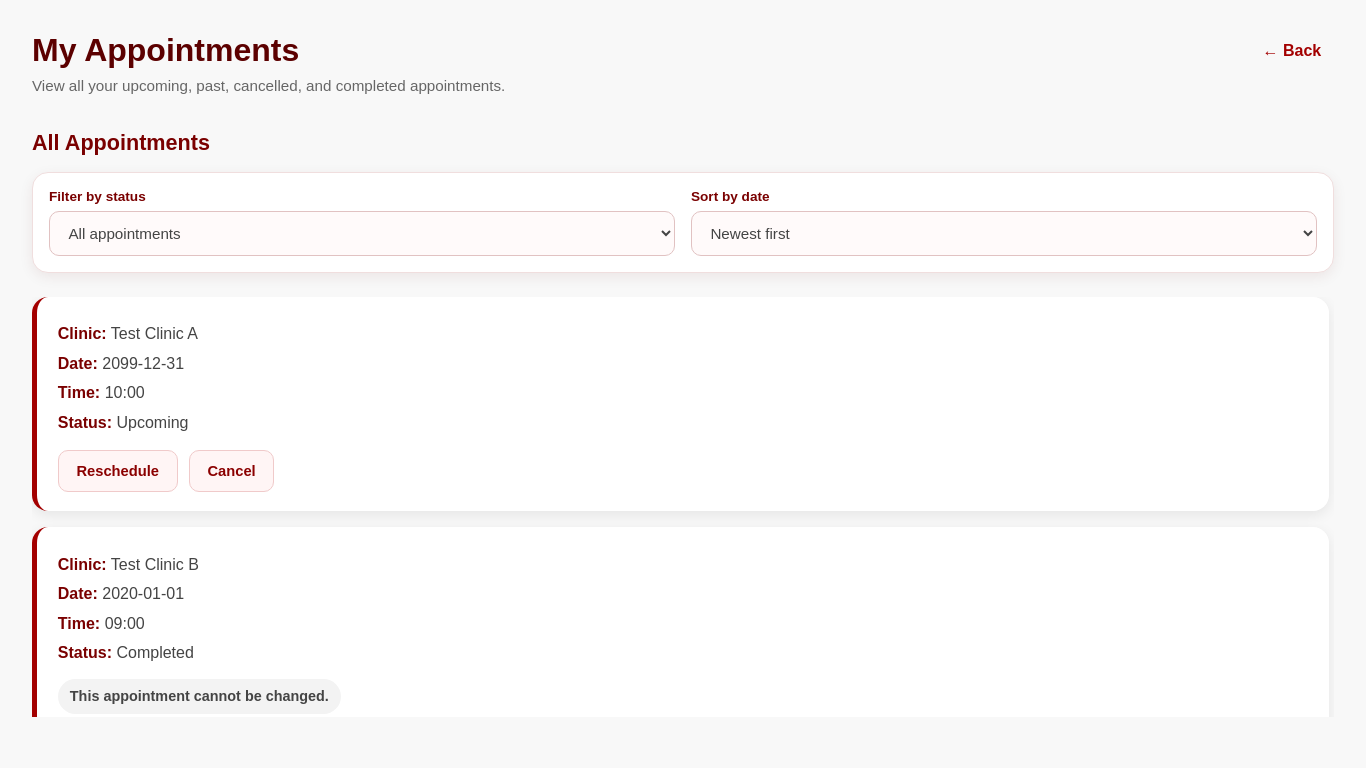
Test: AppointmentsPage › success popup closes when overlay is clicked
The width and height of the screenshot is (1366, 768).
Click the button "Cancel" at point(232, 471), box [189, 450, 274, 492]
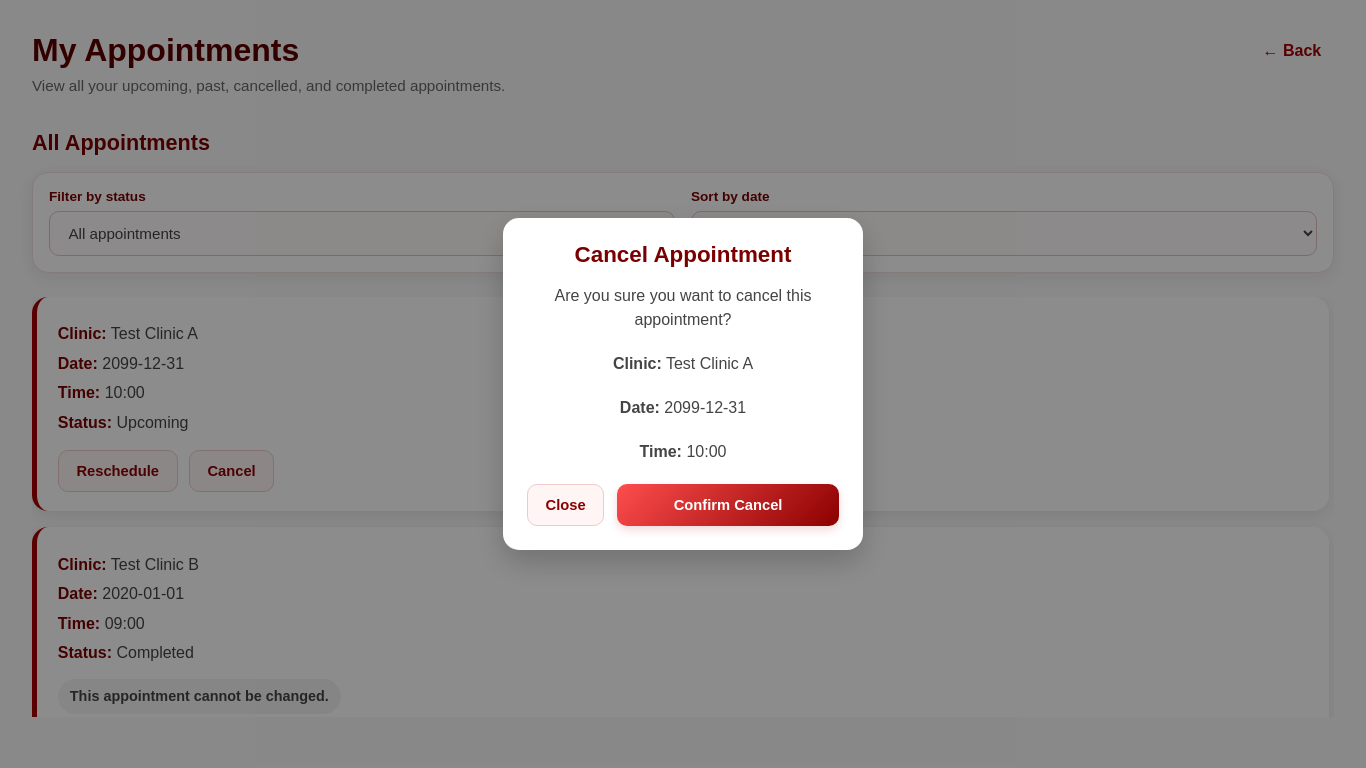
Click the button "Confirm Cancel" at point(728, 505), box [617, 484, 839, 526]
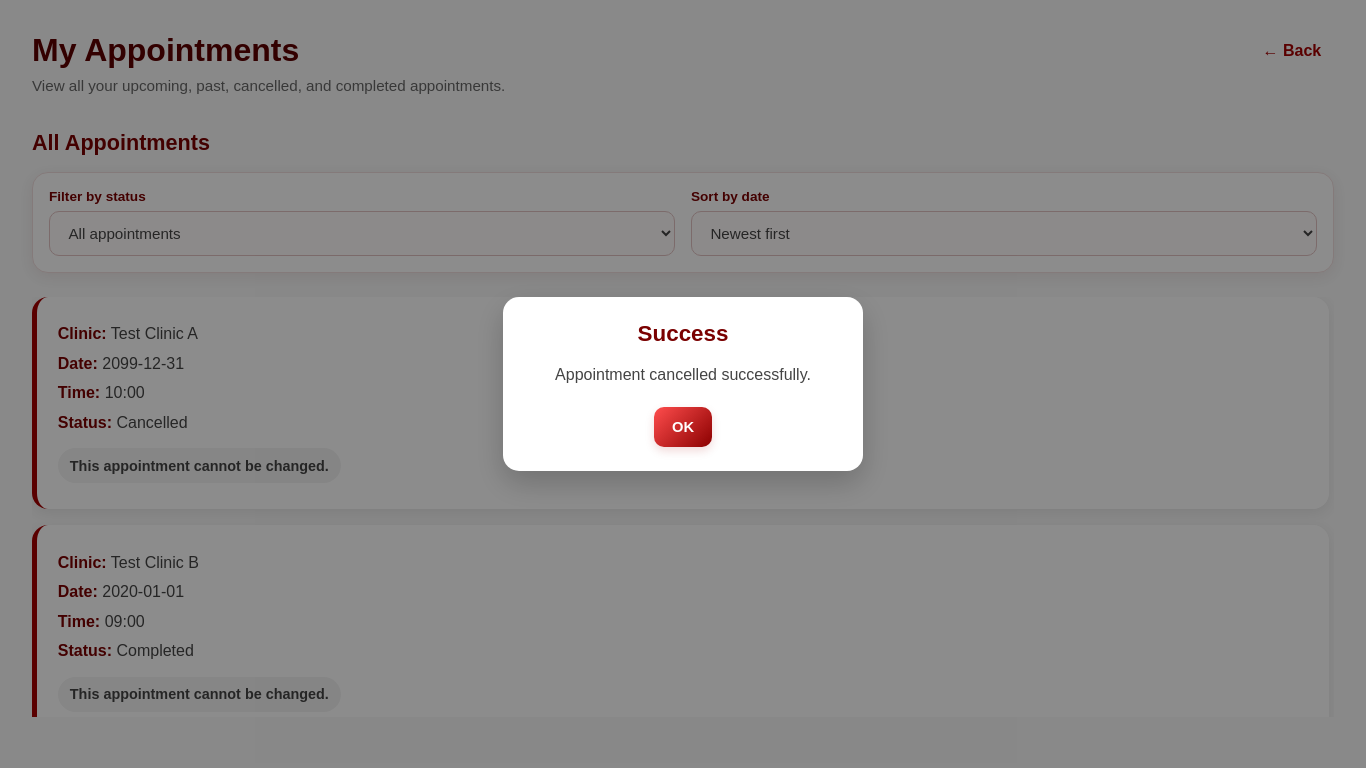
Check: the heading "Success" is shown, box [638, 321, 728, 346]
Click the element with class "modal-overlay" at point(82, 384), box [0, 0, 1365, 767]
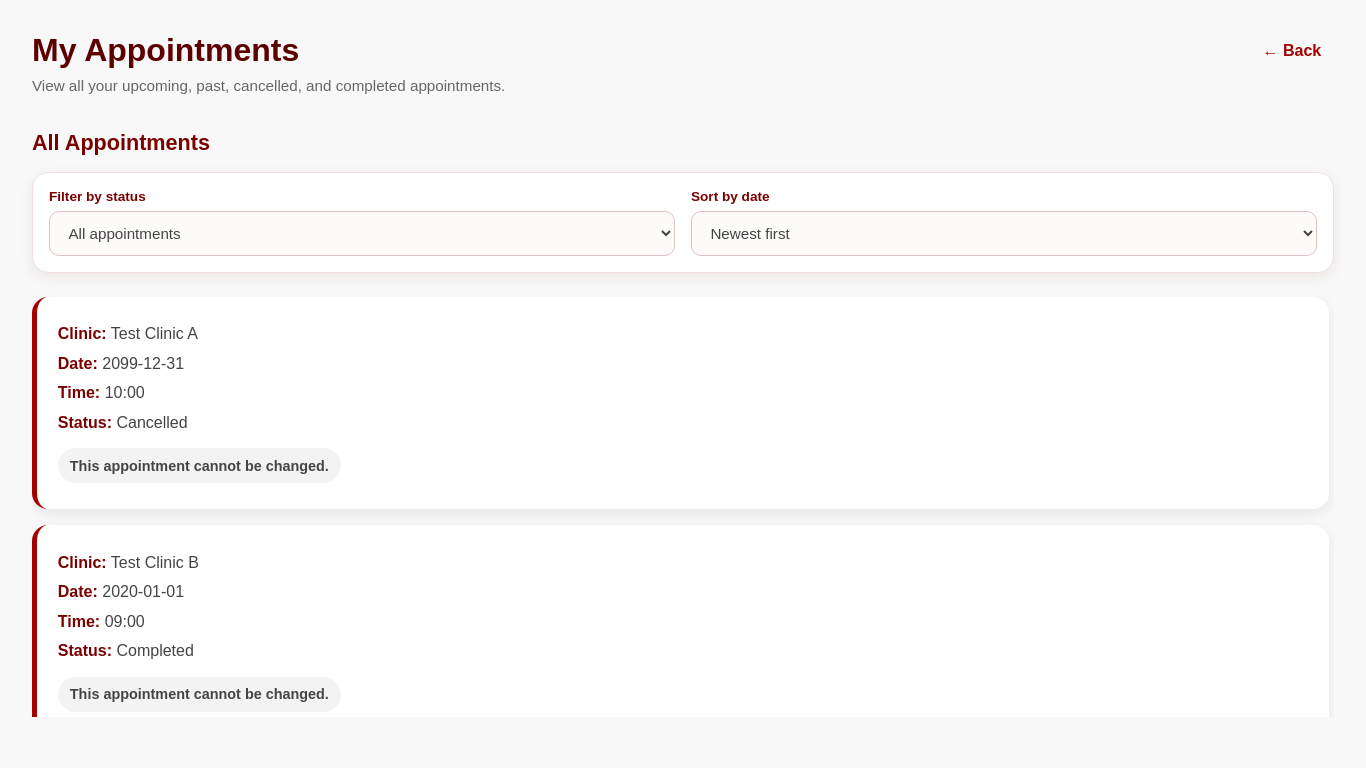
Check: the heading "Success" is gone
